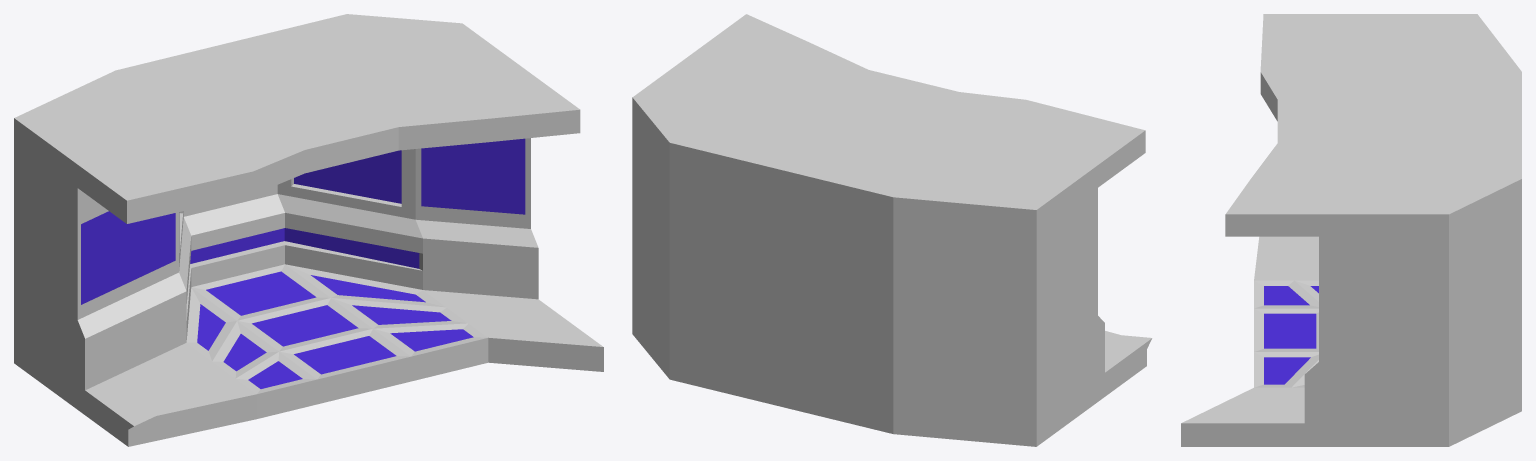
The model's file is ReactorChamber.fbx.
The picture shows the model from 3 angles, left to right: view 1: azimuth 30°, elevation 25°; view 2: azimuth 150°, elevation 25°; view 3: azimuth 270°, elevation 25°; orthographic projection. The views are drawn at different scales.
Parts seen in each view (by area): view 1: ReactorChamber; view 2: ReactorChamber; view 3: ReactorChamber.
Part boxes in pixels (box(x1,y1,x2,y2)): ReactorChamber: box(14, 14, 603, 446); ReactorChamber: box(632, 14, 1152, 446); ReactorChamber: box(1181, 14, 1521, 446).
Size of the model in its own units: 3633 by 1965 by 2611.
